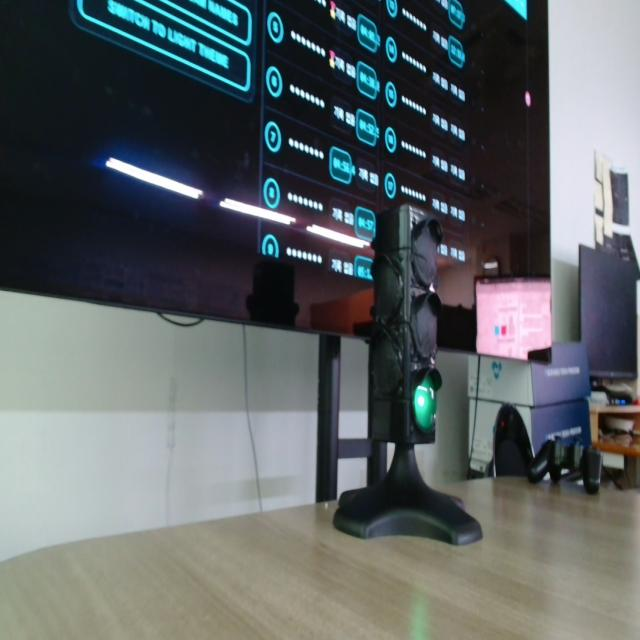green_light: (414, 376, 436, 432)
